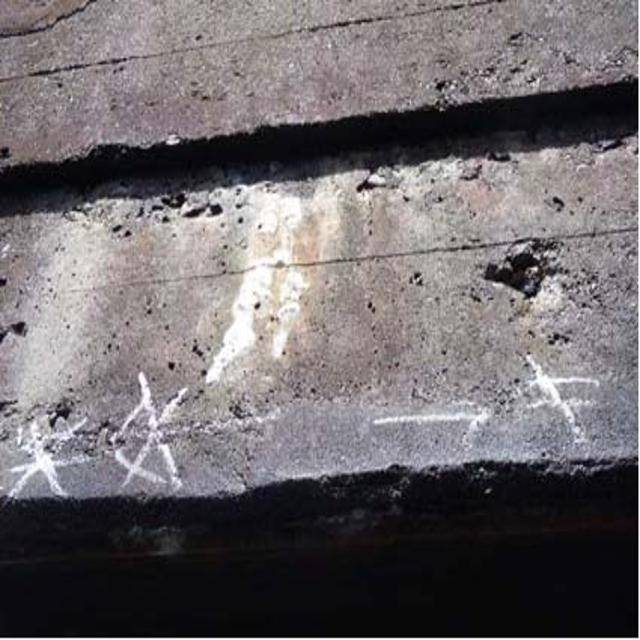spalling: (473, 213, 594, 330), (67, 166, 333, 213), (24, 390, 224, 449)
